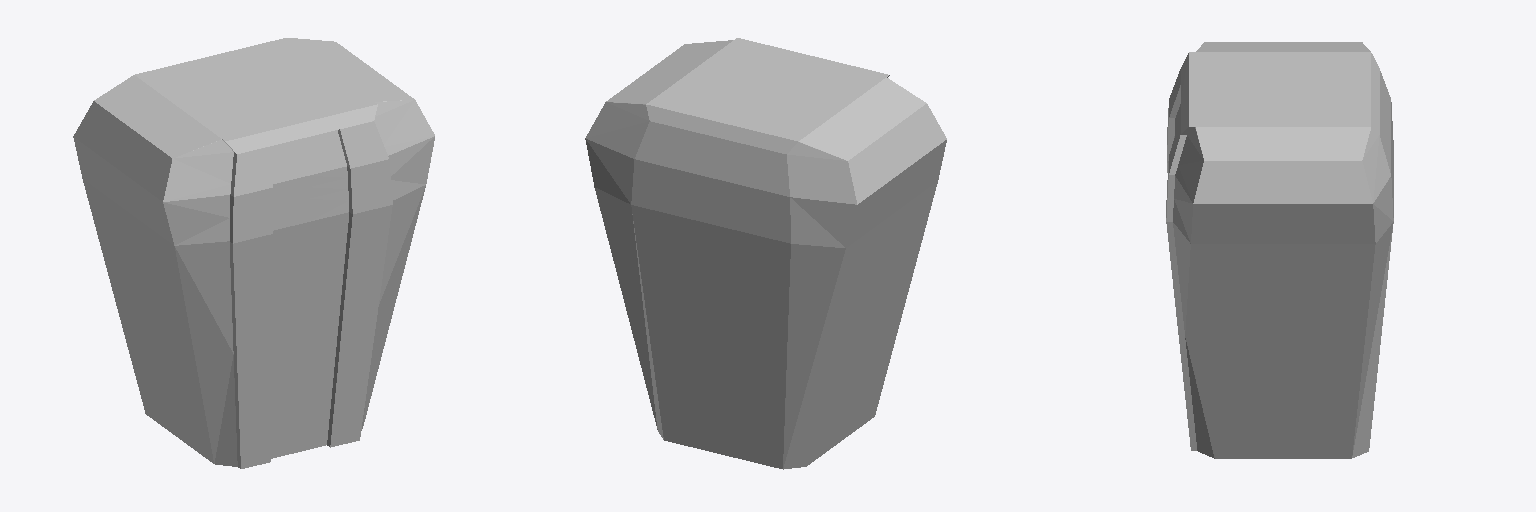
Rendered from Torso Exported.obj.
3 renders of one model, left to right at view 1: azimuth 30°, elevation 25°; view 2: azimuth 150°, elevation 25°; view 3: azimuth 270°, elevation 25°, orthographic.
Visible parts, largest first — view 1: Main; view 2: Main; view 3: Main.
Boxes of the visible parts, x1=… form: Main: x1=73, y1=38, x2=434, y2=468; Main: x1=585, y1=38, x2=946, y2=469; Main: x1=1166, y1=42, x2=1393, y2=458.
Size of the model in its own units: 1.24 by 1.45 by 0.8957.